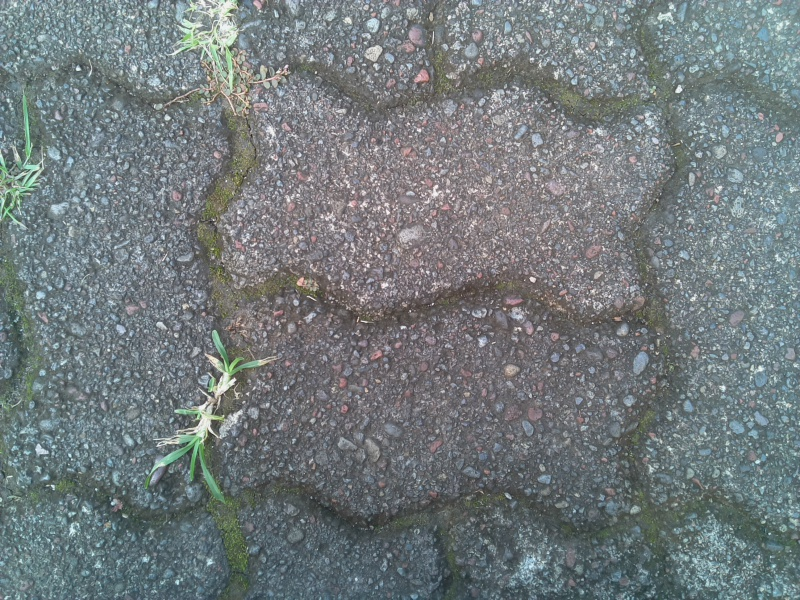Weed: (167, 27, 298, 123), (145, 396, 238, 505), (185, 325, 276, 400), (162, 1, 250, 64), (3, 119, 51, 234)
